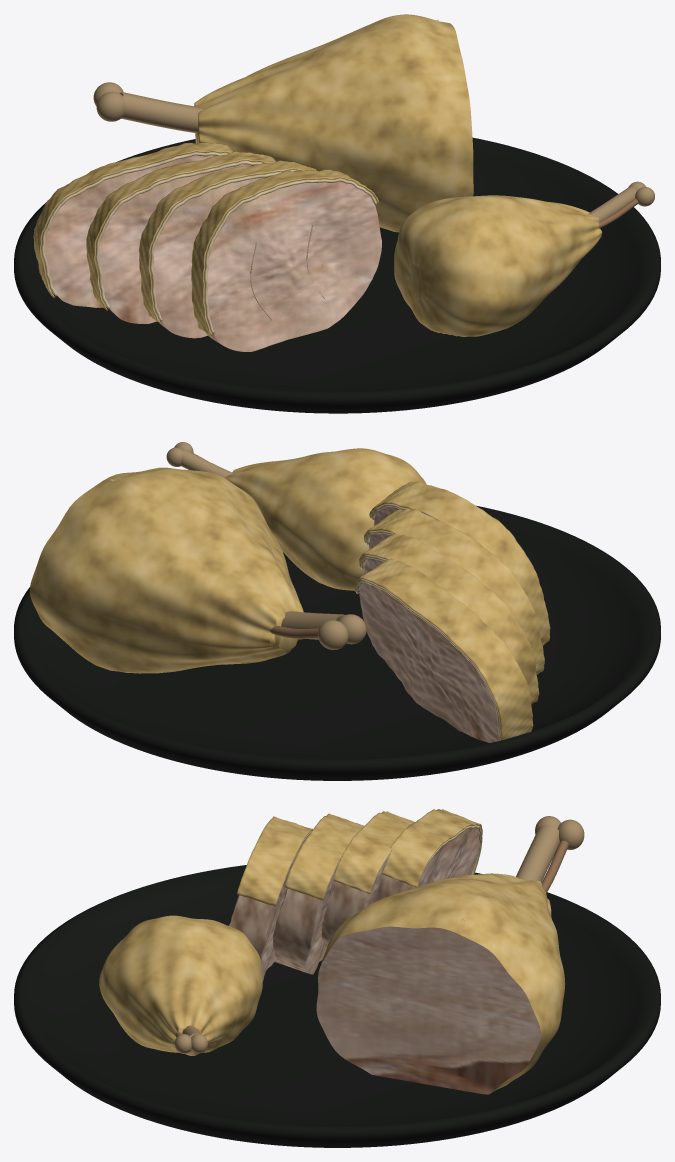
Rendered from nanjing-dish-original.glb.
3 renders of one model, top to bottom at view 1: azimuth 30°, elevation 25°; view 2: azimuth 150°, elevation 25°; view 3: azimuth 270°, elevation 25°, orthographic.
Visible parts, largest first — view 1: nanjing-dish; view 2: nanjing-dish; view 3: nanjing-dish.
Part boxes in pixels (left/top/right/bottom): nanjing-dish: left=14, top=14, right=660, bottom=413; nanjing-dish: left=14, top=442, right=660, bottom=780; nanjing-dish: left=14, top=809, right=660, bottom=1147.
Size of the model in its own units: 0.182 by 0.064 by 0.182.
Materials: 12 (12 with a texture image).
